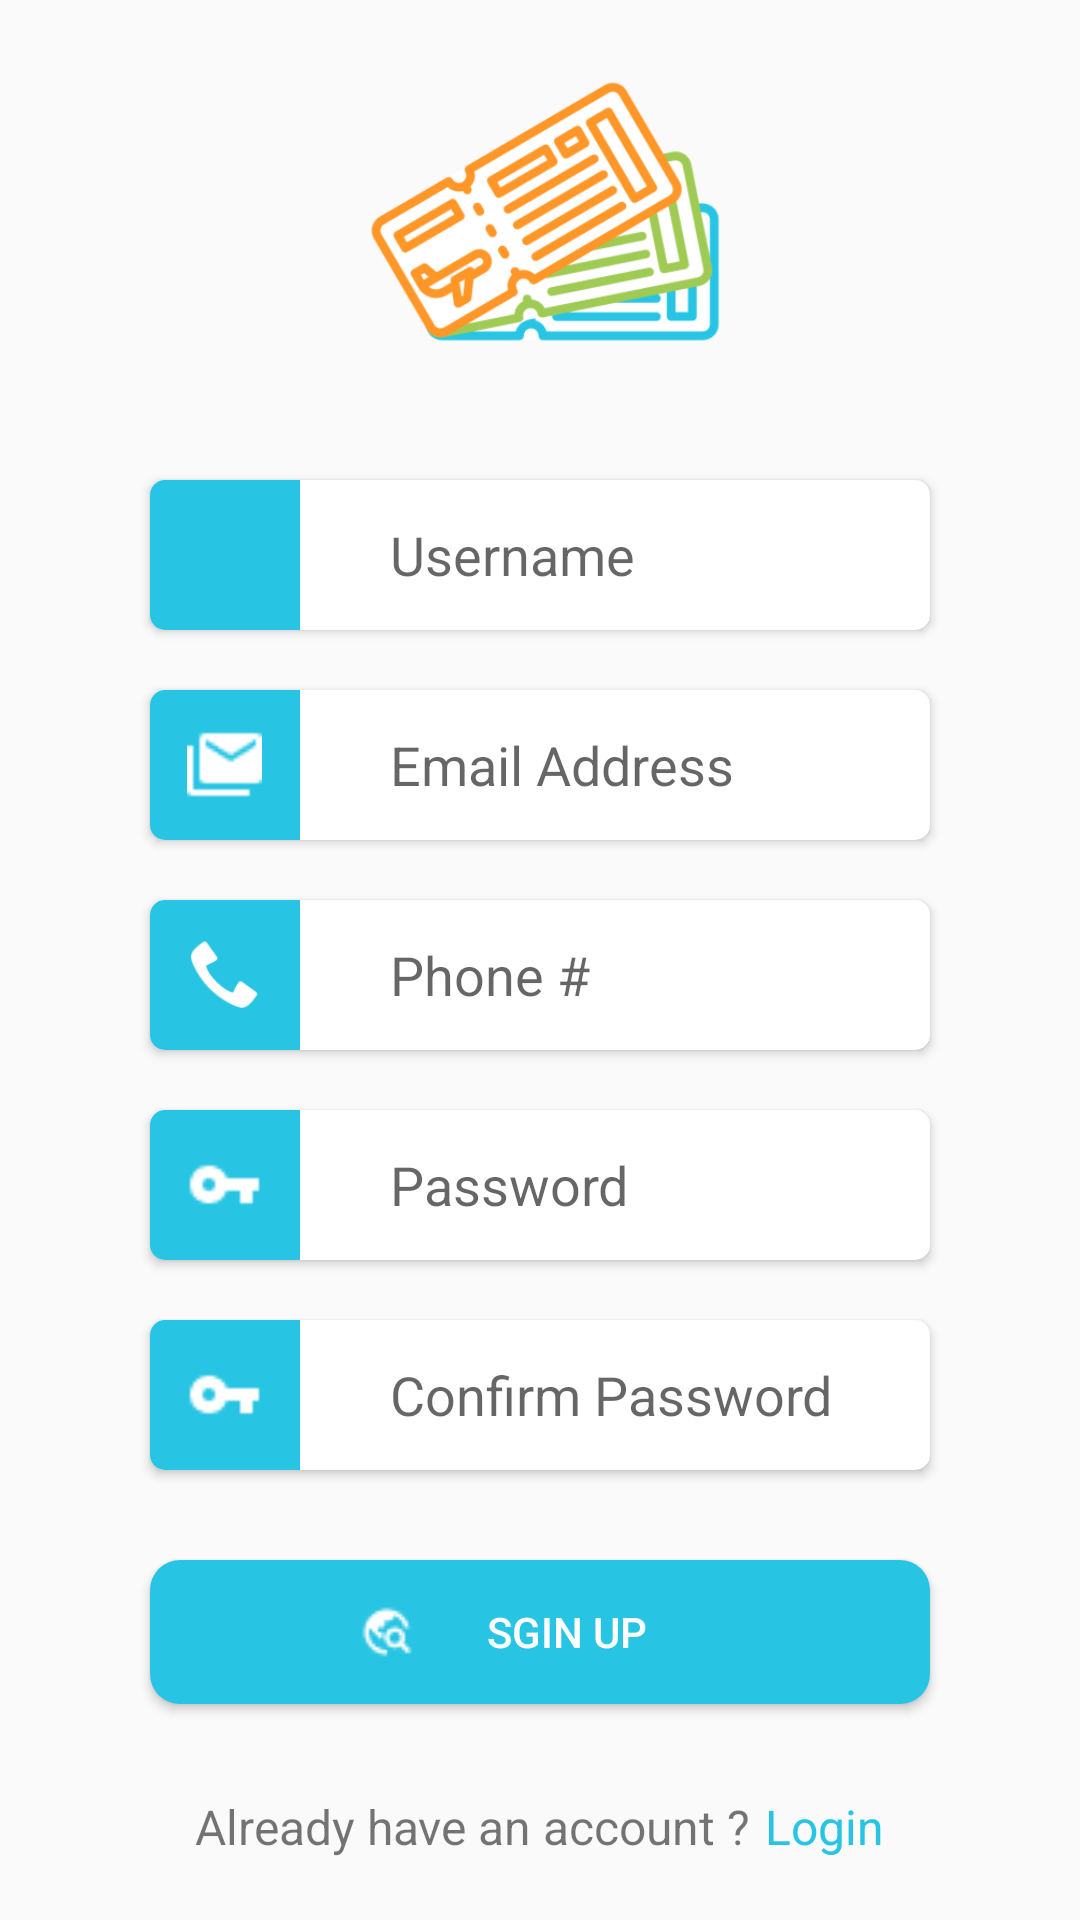

Point at icon controls on the screen. Image size 1080×1920, points as [x,y].
email multiple: [224,764]
vpn key: [224,1184], [224,1394]
